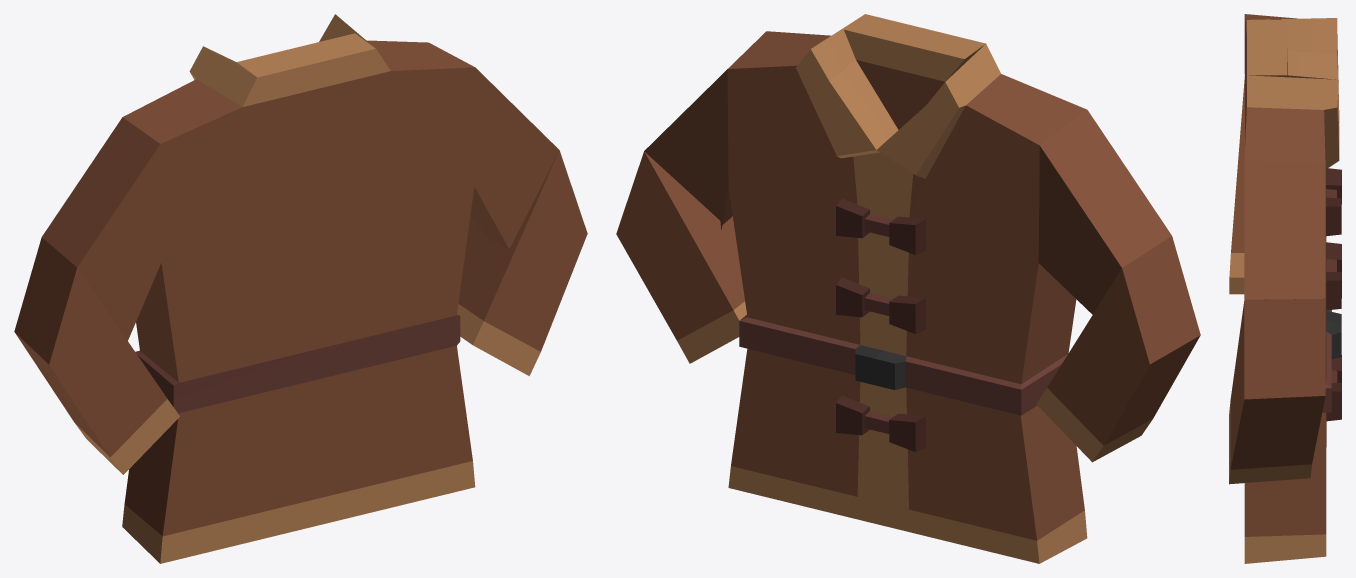
File: icon_clothes.fbx
3 renders of one model, left to right at view 1: azimuth 30°, elevation 25°; view 2: azimuth 150°, elevation 25°; view 3: azimuth 270°, elevation 25°, orthographic. The views are drawn at different scales.
Parts seen in each view (by area): view 1: icon_clothes; view 2: icon_clothes; view 3: icon_clothes.
Boxes of the visible parts, box(x1,y1,x2,y2) form: icon_clothes: box(14, 14, 587, 563); icon_clothes: box(616, 14, 1200, 563); icon_clothes: box(1229, 14, 1341, 563).
Size of the model in its own units: 57.34 by 47 by 10.87.
